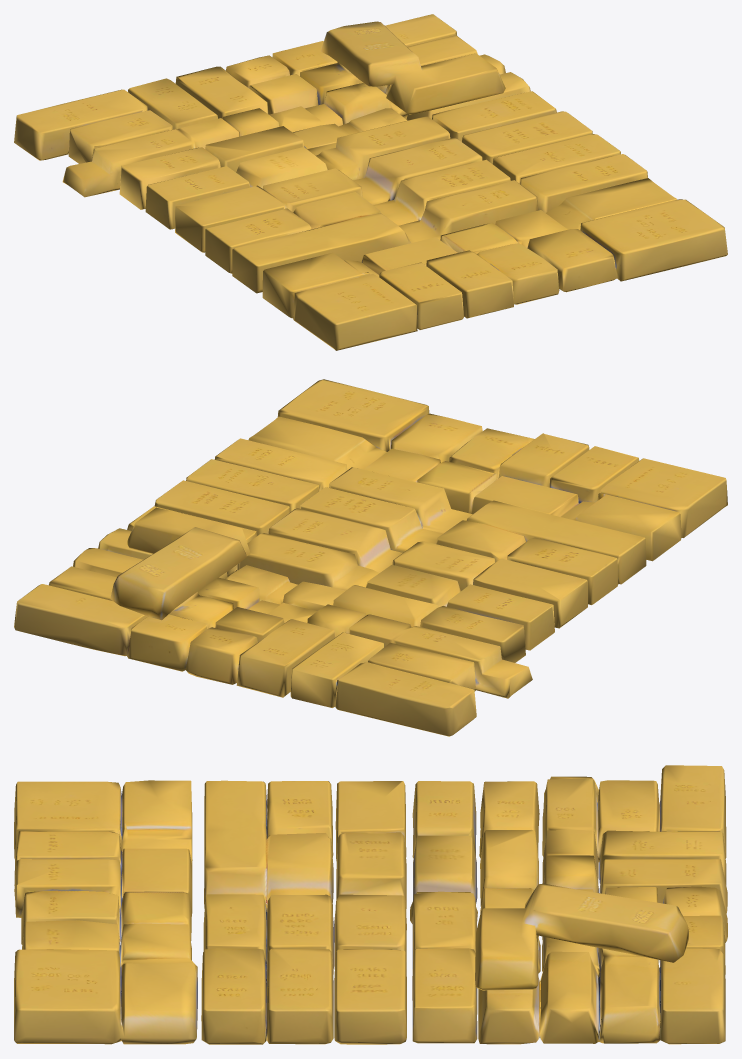
The model's file is gold+bars+3d+model.obj.
3 renders of one model, top to bottom at view 1: azimuth 30°, elevation 25°; view 2: azimuth 150°, elevation 25°; view 3: azimuth 270°, elevation 25°, orthographic. The views are drawn at different scales.
Parts seen in each view (by area): view 1: tripo_node_6374c3e9-079e-482c-be7f-068fa45af899; view 2: tripo_node_6374c3e9-079e-482c-be7f-068fa45af899; view 3: tripo_node_6374c3e9-079e-482c-be7f-068fa45af899.
Boxes of the visible parts, <box> form: tripo_node_6374c3e9-079e-482c-be7f-068fa45af899: <box>14,14,727,350</box>; tripo_node_6374c3e9-079e-482c-be7f-068fa45af899: <box>14,379,727,736</box>; tripo_node_6374c3e9-079e-482c-be7f-068fa45af899: <box>14,765,727,1044</box>.
Bounding box in the file's own units: 0.8303 × 0.1232 × 1.
1 material, 1 textured.
